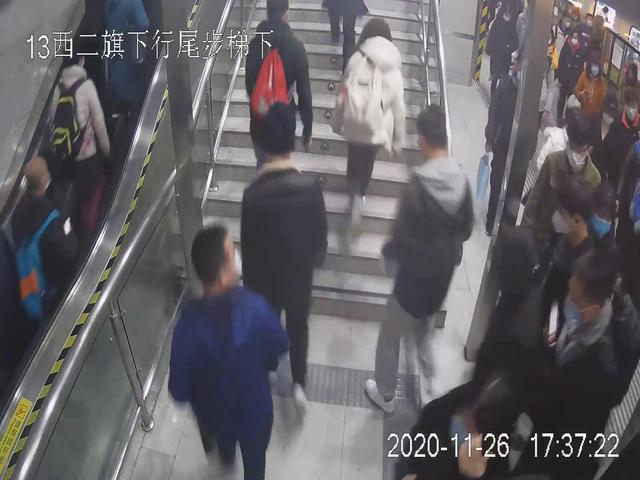person: (217, 108, 353, 402), (159, 228, 298, 479), (367, 105, 471, 413), (546, 248, 637, 480), (228, 1, 321, 197), (335, 15, 410, 230), (36, 43, 115, 246), (8, 152, 72, 341)
